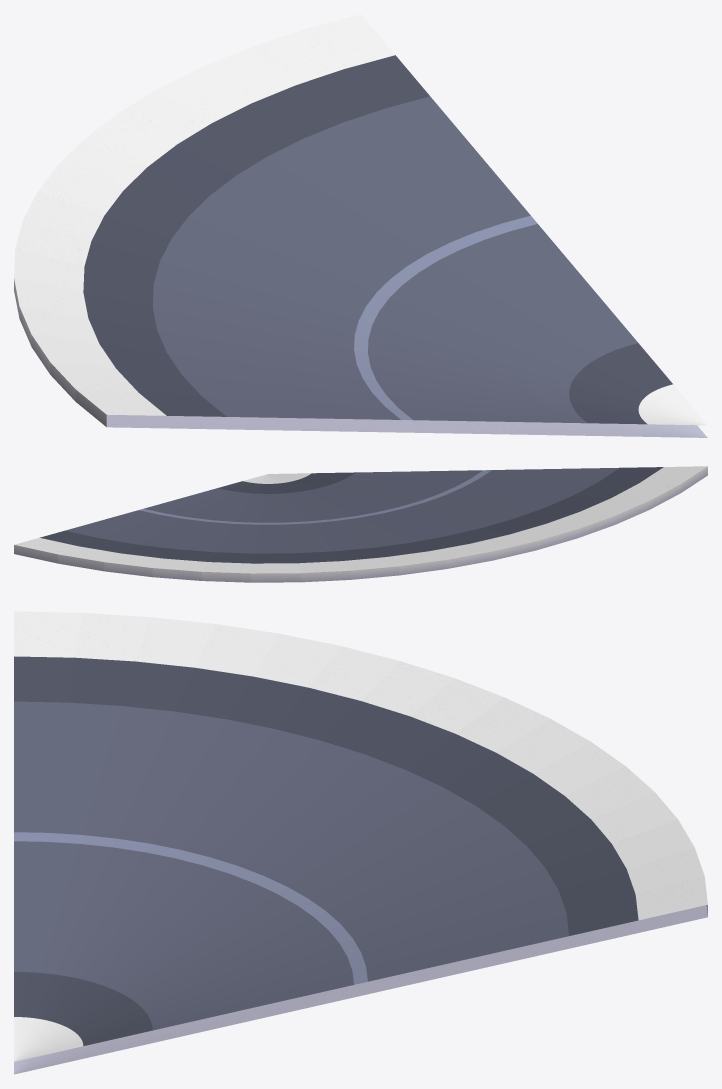
File: road-Turn-HalfBankedRight-HalfBankedRight-Even-Right-Size1.glb
3 views of the same model, one above another, from view 1: azimuth 30°, elevation 25°; view 2: azimuth 150°, elevation 25°; view 3: azimuth 270°, elevation 25° (orthographic). The views are drawn at different scales.
Parts seen in each view (by area): view 1: road-Turn-HalfBankedRight-HalfBankedRight-Even-Right-Size1; view 2: road-Turn-HalfBankedRight-HalfBankedRight-Even-Right-Size1; view 3: road-Turn-HalfBankedRight-HalfBankedRight-Even-Right-Size1.
Part boxes in pixels (box(x1,y1,x2,y2)): road-Turn-HalfBankedRight-HalfBankedRight-Even-Right-Size1: box(14, 14, 707, 437); road-Turn-HalfBankedRight-HalfBankedRight-Even-Right-Size1: box(14, 466, 707, 582); road-Turn-HalfBankedRight-HalfBankedRight-Even-Right-Size1: box(14, 611, 707, 1074).
Size of the model in its own units: 1 by 0.27 by 1.
Materials: 1 (1 with a texture image).
